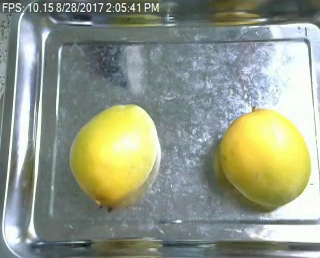Mango: (216, 105, 310, 205), (69, 103, 158, 208)
